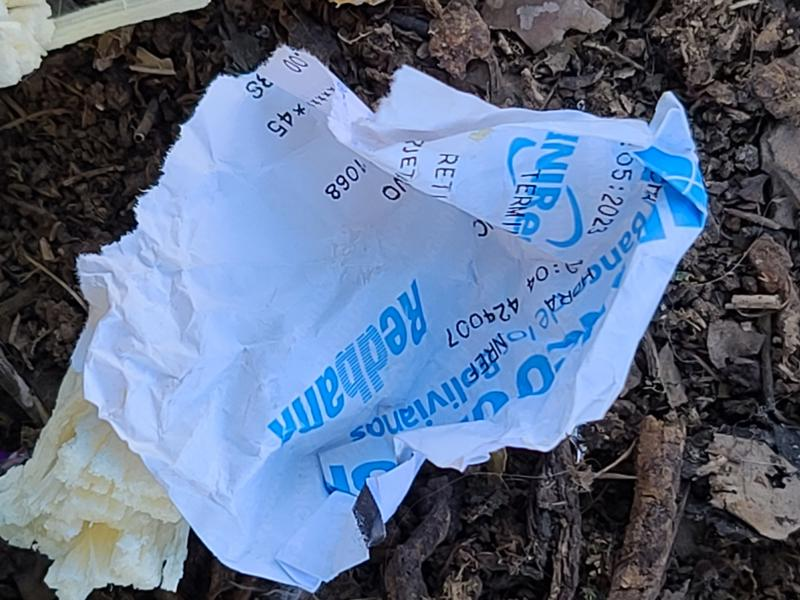papel: (72, 46, 710, 593)
